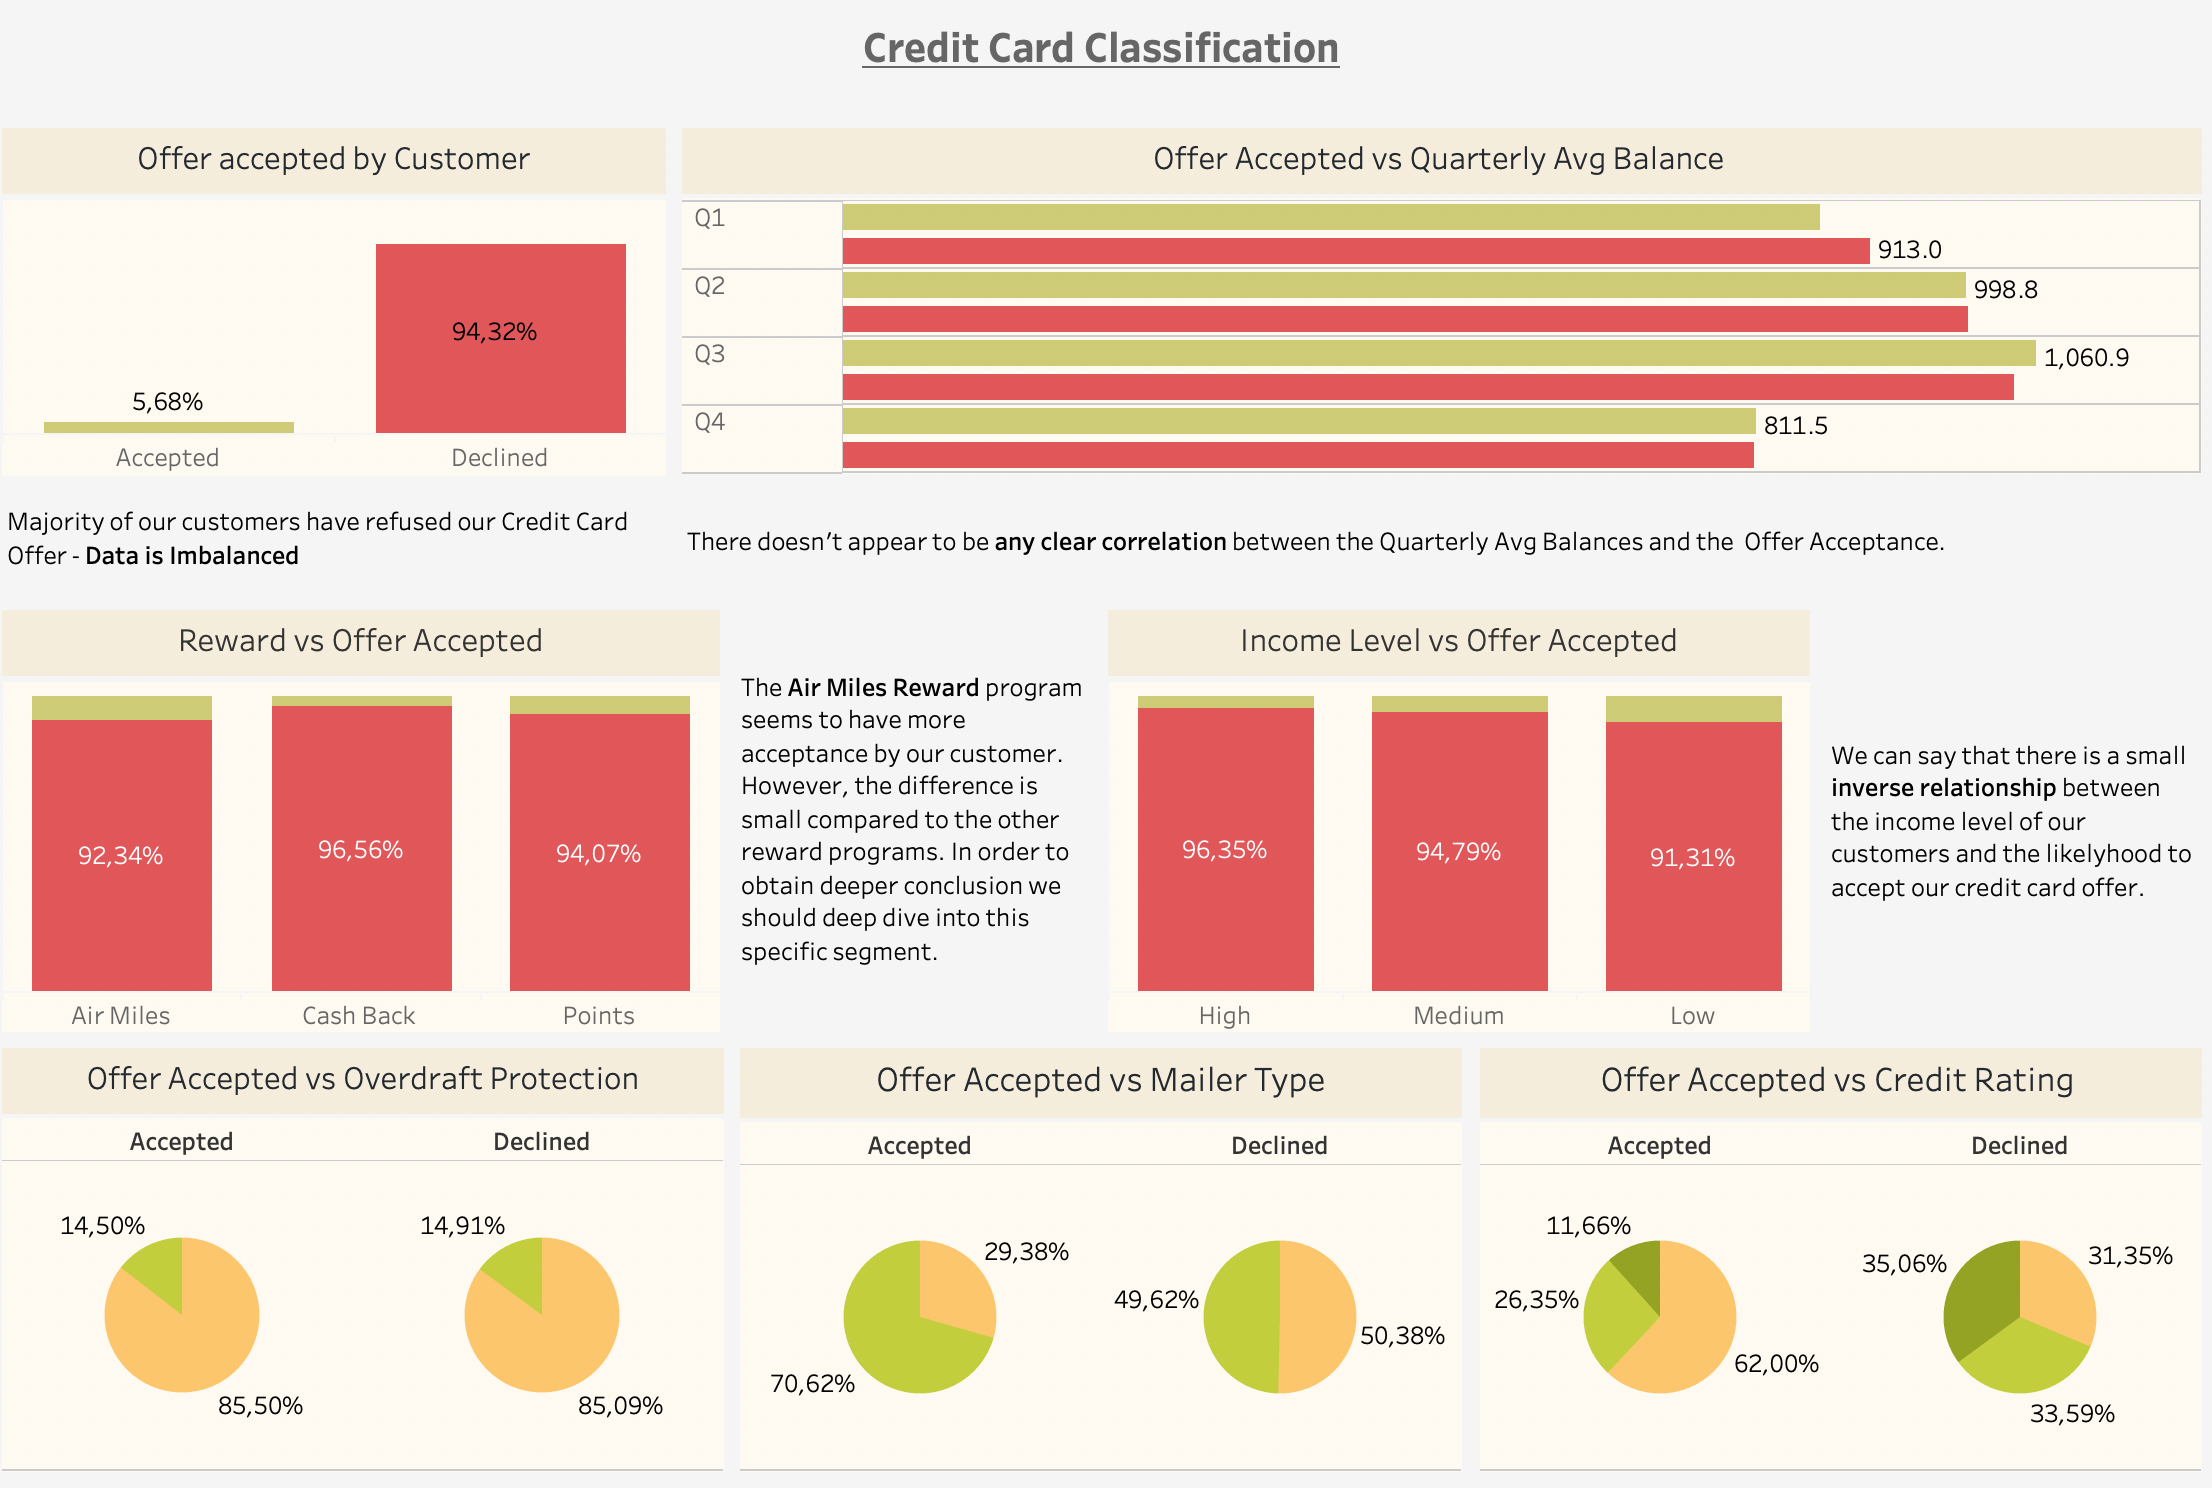

This screenshot's page, from the dashboard's own definition file:
{"tool":"tableau","page":{"name":"Task 9 - Dashboard","canvas":[1000,1000],"units":"permille","ordinal":0},"visuals":[{"type":"text","box":[6.7,12.8,865,95.7]},{"type":"filter","title":"Task 5(DB)","param":"[federated.0hzrslb0uli1vd15rb0dn1bhgdxv].[none:Offer_Accepted:nk]","box":[871.6,68.5,121.7,78.2]},{"type":"worksheet","title":"Task 3(DB)","mark":"Automatic","rows":["Customer_Number"],"cols":["Offer_Accepted"],"box":[6.7,108.4,265.2,235]},{"type":"worksheet","title":"Task 5(DB)","mark":"Bar","box":[271.8,108.4,599.8,234.4]},{"type":"filter","title":"Reward(DB)","param":"[federated.0hzrslb0uli1vd15rb0dn1bhgdxv].[none:Reward:nk]","box":[871.6,146.7,121.7,81.4]},{"type":"filter","title":"IncomeLevel(DB)","param":"[federated.0hzrslb0uli1vd15rb0dn1bhgdxv].[none:Income_Level:nk]","box":[871.6,228.1,121.7,81.3]},{"type":"filter","title":"Task 7.1 (DB)","param":"[federated.0hzrslb0uli1vd15rb0dn1bhgdxv].[none:Overdraft_Protection:nk]","box":[873.3,312.6,118.3,82.9]},{"type":"text","box":[271.8,342.9,599.8,76.6]},{"type":"text","box":[6.7,343.5,265.2,76]},{"type":"filter","title":"Task 7.2 (DB)","param":"[federated.0hzrslb0uli1vd15rb0dn1bhgdxv].[none:Mailer_Type:nk]","box":[873.3,395.5,118.3,82.9]},{"type":"worksheet","title":"Reward(DB)","mark":"Automatic","cols":["Reward"],"box":[6.7,419.4,286.6,283.9]},{"type":"text","box":[293.3,419.4,145.3,283.9]},{"type":"worksheet","title":"IncomeLevel(DB)","mark":"Automatic","cols":["Income_Level"],"box":[438.6,419.4,299.2,283.9]},{"type":"text","box":[737.8,419.4,133.9,283.9]},{"type":"filter","title":"Task 7.3 (DB)","param":"[federated.0hzrslb0uli1vd15rb0dn1bhgdxv].[none:Credit_Rating:nk]","box":[873.3,478.4,118.3,82.9]},{"type":"worksheet","title":"Task 7.1 (DB)","mark":"Pie","cols":["Offer_Accepted"],"box":[6.7,703.3,288.3,283.9]},{"type":"worksheet","title":"Task 7.2 (DB)","mark":"Pie","cols":["Offer_Accepted"],"box":[295,703.3,288.3,283.9]},{"type":"worksheet","title":"Task 7.3 (DB)","mark":"Pie","cols":["Offer_Accepted"],"box":[583.3,703.3,288.3,283.9]}]}

Visuals, with their boxes on the dashboard's canvas, which has no fixed pixel size, in thousandths of its width and height (x1, y1, x2, y2). These are canvas units, not pixel positions in the 2212x1488 screenshot, which may show the page scaled, cropped or inside an application window:
text: {"x1": 7, "y1": 13, "x2": 872, "y2": 108}
"Task 5(DB)" filter: {"x1": 872, "y1": 68, "x2": 993, "y2": 147}
"Task 3(DB)" worksheet: {"x1": 7, "y1": 108, "x2": 272, "y2": 343}
"Task 5(DB)" worksheet (Bar marks): {"x1": 272, "y1": 108, "x2": 872, "y2": 343}
"Reward(DB)" filter: {"x1": 872, "y1": 147, "x2": 993, "y2": 228}
"IncomeLevel(DB)" filter: {"x1": 872, "y1": 228, "x2": 993, "y2": 309}
"Task 7.1 (DB)" filter: {"x1": 873, "y1": 313, "x2": 992, "y2": 396}
text: {"x1": 272, "y1": 343, "x2": 872, "y2": 420}
text: {"x1": 7, "y1": 344, "x2": 272, "y2": 420}
"Task 7.2 (DB)" filter: {"x1": 873, "y1": 396, "x2": 992, "y2": 478}
"Reward(DB)" worksheet: {"x1": 7, "y1": 419, "x2": 293, "y2": 703}
text: {"x1": 293, "y1": 419, "x2": 439, "y2": 703}
"IncomeLevel(DB)" worksheet: {"x1": 439, "y1": 419, "x2": 738, "y2": 703}
text: {"x1": 738, "y1": 419, "x2": 872, "y2": 703}
"Task 7.3 (DB)" filter: {"x1": 873, "y1": 478, "x2": 992, "y2": 561}
"Task 7.1 (DB)" worksheet (Pie marks): {"x1": 7, "y1": 703, "x2": 295, "y2": 987}
"Task 7.2 (DB)" worksheet (Pie marks): {"x1": 295, "y1": 703, "x2": 583, "y2": 987}
"Task 7.3 (DB)" worksheet (Pie marks): {"x1": 583, "y1": 703, "x2": 872, "y2": 987}
